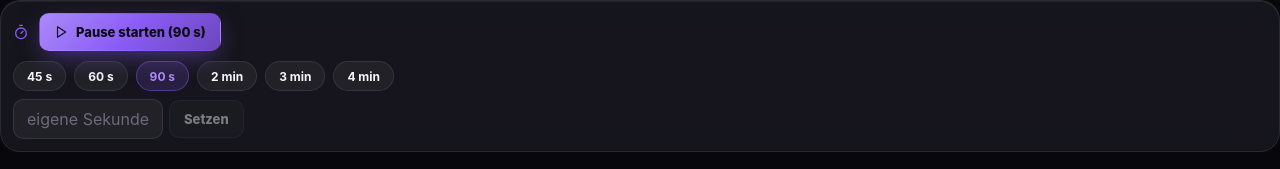
RestTimer — adjustable pauses › rejects an implausible custom length rather than starting a 9-hour rest
Click the button "Pause starten (90 s)" at {"x": 130, "y": 32}, box [39,13,221,51]
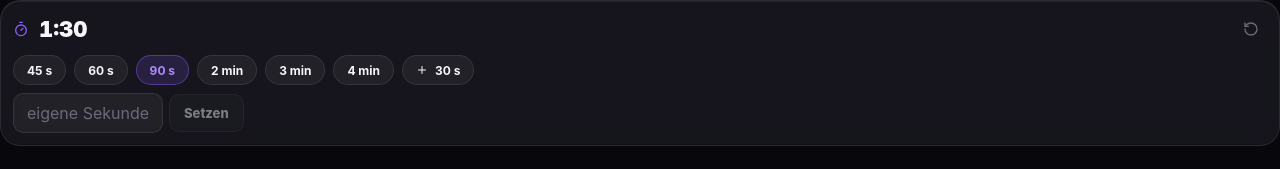
Type "99999" into the field named "Eigene Pausenlänge" at {"x": 88, "y": 113}, box [13,93,163,133]
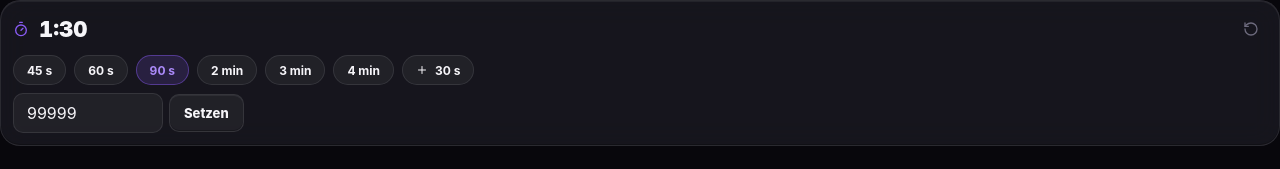
Click the button "Setzen" at {"x": 206, "y": 113}, box [169,94,244,132]
Wait 1000 ms
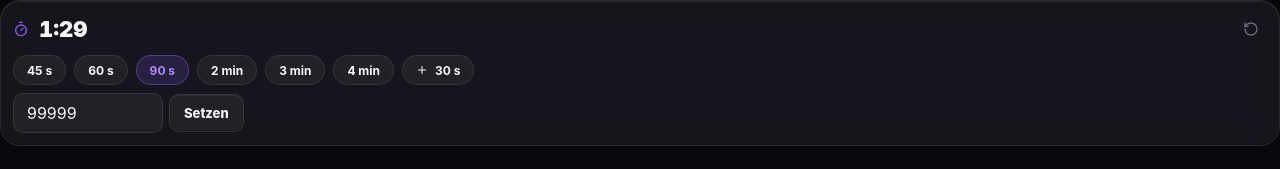
Result: the text "1:29" is shown at [39,16,88,42]
